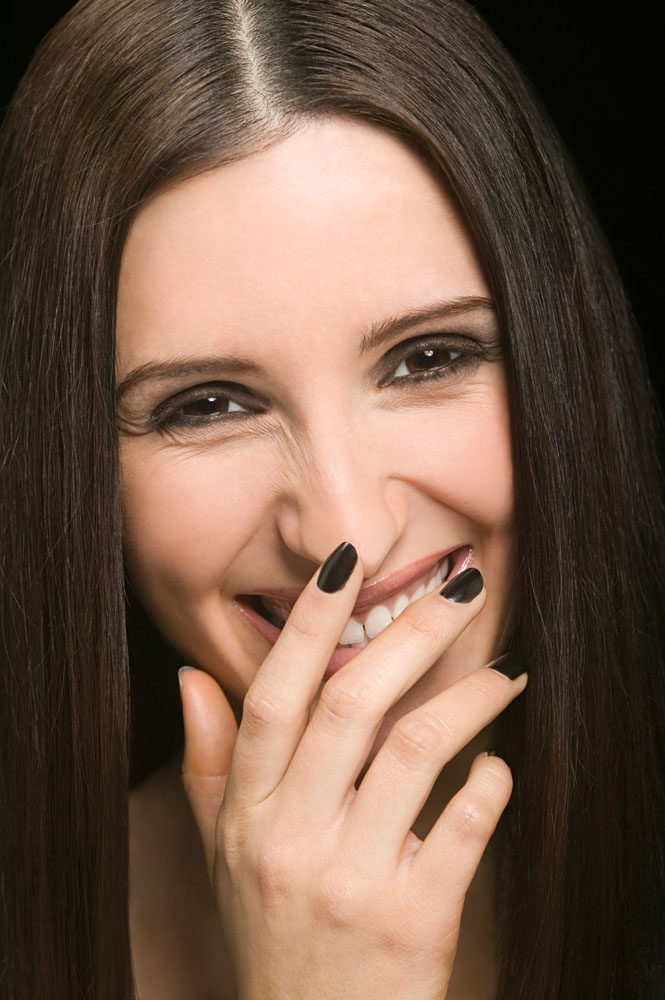face: (115, 114, 515, 794)
